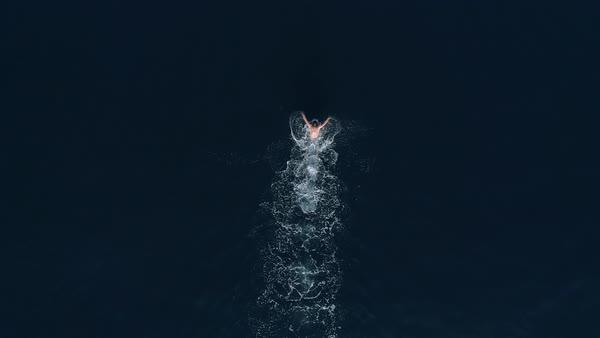swimmer: (300, 110, 332, 146)
